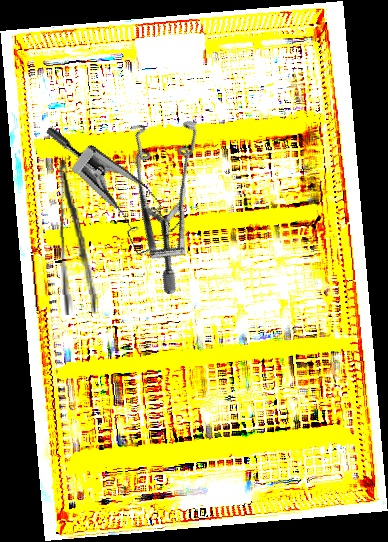Dressing Forceps: (56, 158, 99, 316)
Speculum: (67, 93, 256, 297), (15, 124, 194, 265)
